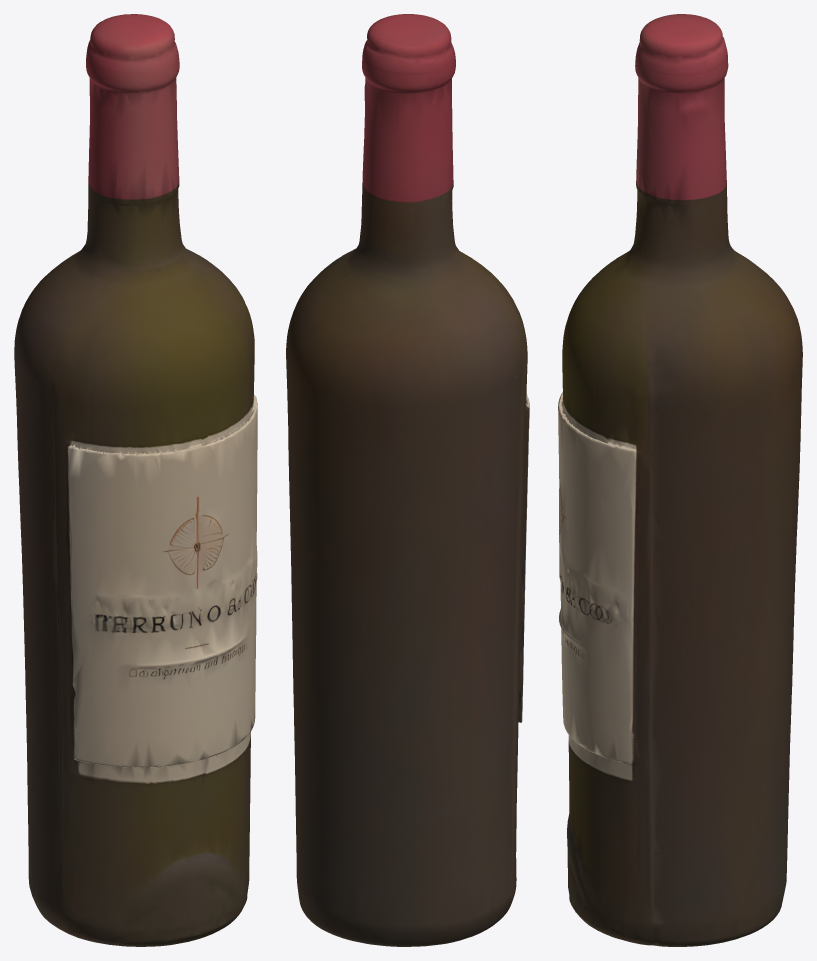
The model's file is terruno-bottle.glb.
3 renders of one model, left to right at view 1: azimuth 30°, elevation 25°; view 2: azimuth 150°, elevation 25°; view 3: azimuth 270°, elevation 25°, orthographic.
Parts seen in each view (by area): view 1: tripo_node_5933e508-429f-461c-a7d9-b7b763d7d5a1; view 2: tripo_node_5933e508-429f-461c-a7d9-b7b763d7d5a1; view 3: tripo_node_5933e508-429f-461c-a7d9-b7b763d7d5a1.
Part boxes in pixels (<box>): tripo_node_5933e508-429f-461c-a7d9-b7b763d7d5a1: <box>14,14,257,946</box>; tripo_node_5933e508-429f-461c-a7d9-b7b763d7d5a1: <box>286,14,529,946</box>; tripo_node_5933e508-429f-461c-a7d9-b7b763d7d5a1: <box>558,14,802,946</box>.
Size of the model in its own units: 0.2459 by 1 by 0.2515.
1 material, 1 textured.
